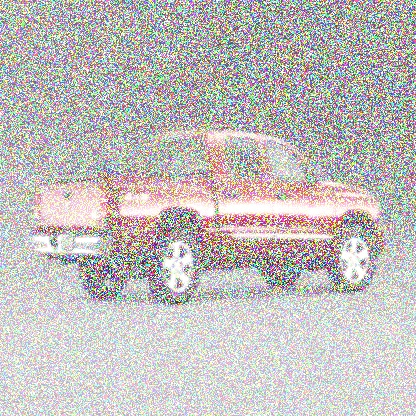Vehicle: (27, 125, 390, 311)
